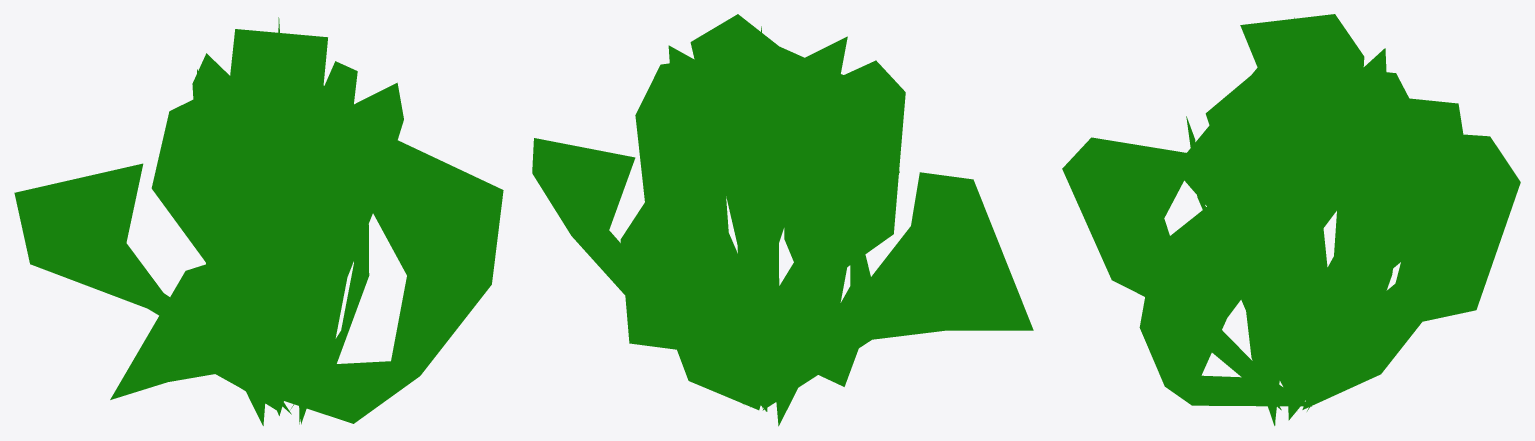
File: Brittlebush_2.fbx
The picture shows the model from 3 angles, left to right: view 1: azimuth 30°, elevation 25°; view 2: azimuth 150°, elevation 25°; view 3: azimuth 270°, elevation 25°; orthographic projection. The views are drawn at different scales.
Parts seen in each view (by area): view 1: Brittlebush_2; view 2: Brittlebush_2; view 3: Brittlebush_2.
Part boxes in pixels (left/top/right/bottom): Brittlebush_2: left=14, top=17, right=503, bottom=425; Brittlebush_2: left=532, top=14, right=1033, bottom=426; Brittlebush_2: left=1062, top=14, right=1520, bottom=425.
Size of the model in its own units: 93.63 by 86.06 by 93.34.
